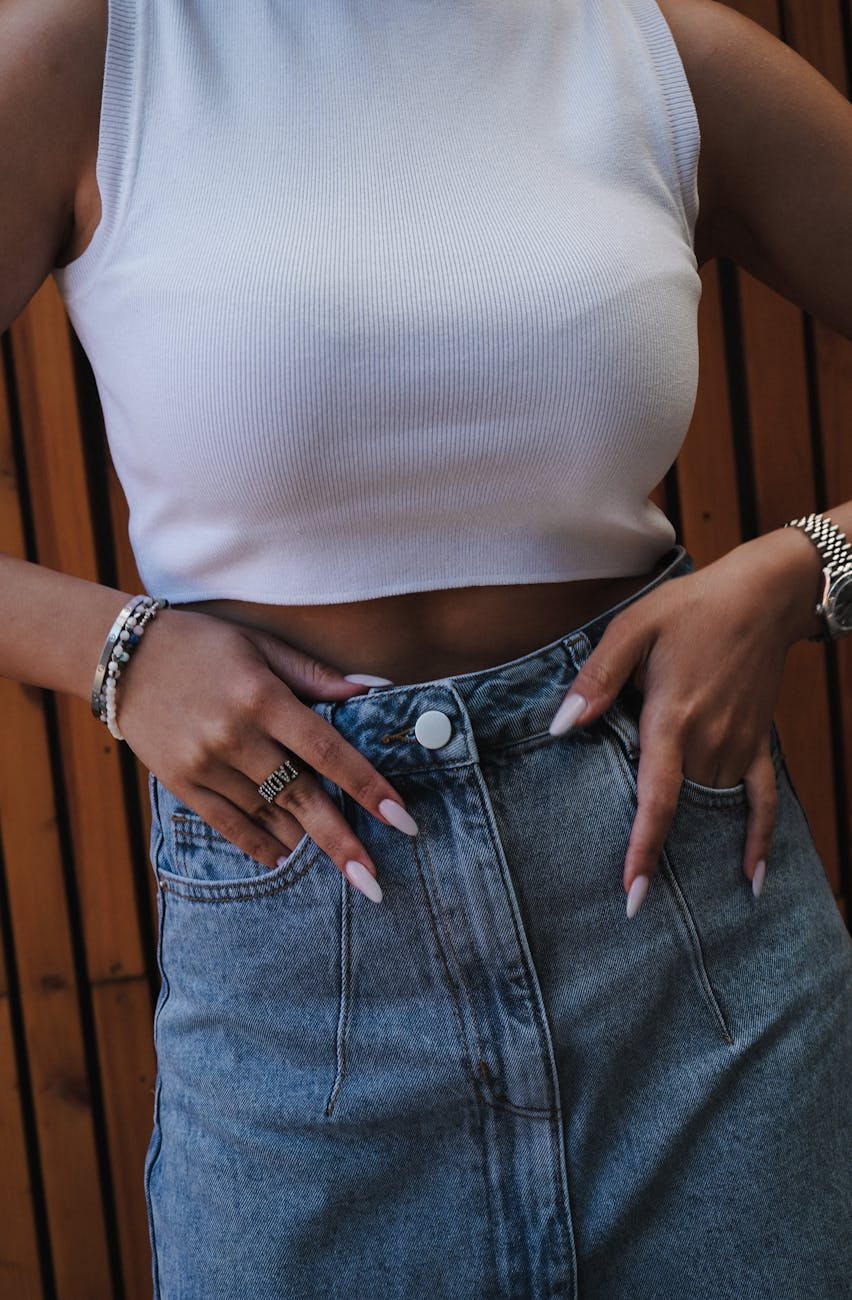crop_top: (0, 0, 765, 629)
short_medium_skirt: (96, 615, 852, 1300)
sleeveless_top: (10, 0, 760, 629)
